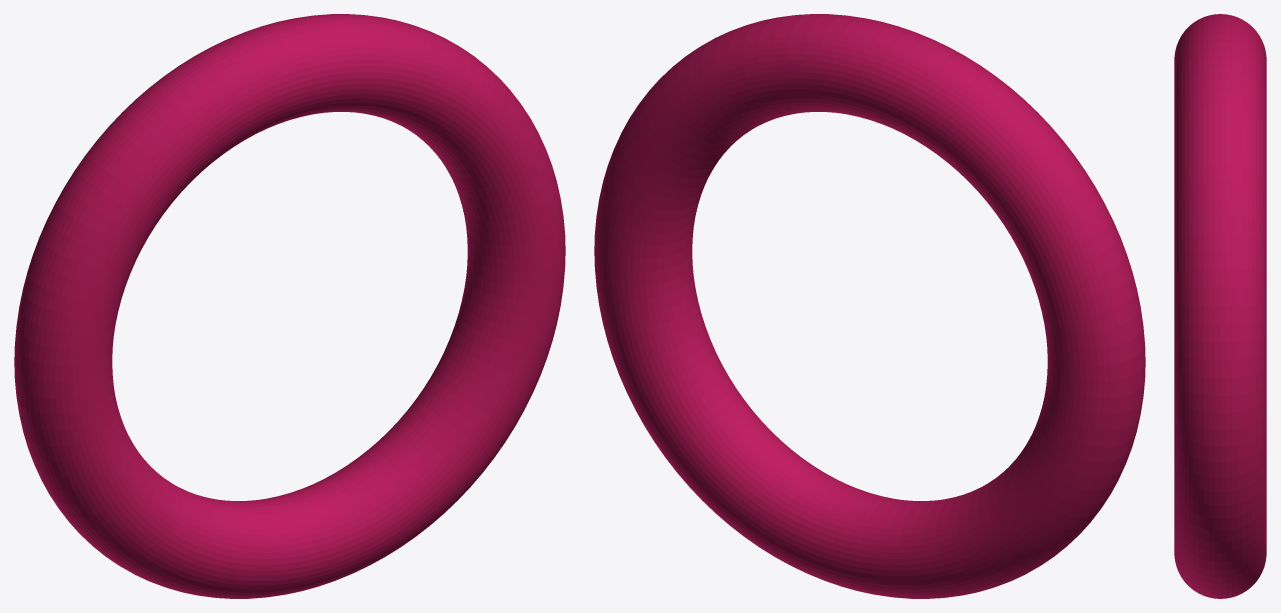
The picture shows the model from 3 angles, left to right: view 1: azimuth 30°, elevation 25°; view 2: azimuth 150°, elevation 25°; view 3: azimuth 270°, elevation 25°; orthographic projection. The views are drawn at different scales.
Visible parts, largest first — view 1: world; view 2: world; view 3: world.
Part boxes in pixels (x1,y1,x2,y2): world: [14, 14, 565, 598]; world: [594, 14, 1145, 598]; world: [1174, 14, 1266, 598].
Size of the model in its own units: 24.53 by 24.53 by 3.86.
